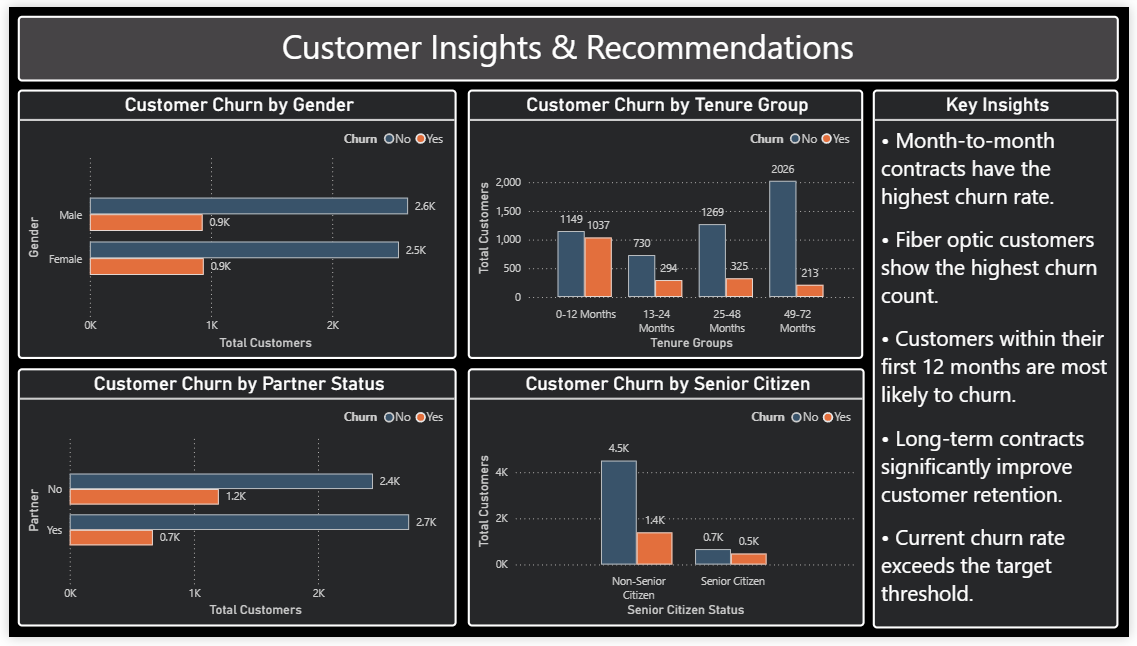

This screenshot's page, from the dashboard's own definition file:
{"tool":"powerbi","page":{"name":"Customer Insights & Recommendations","canvas":[1280,720],"ordinal":1},"visuals":[{"type":"clusteredColumnChart","title":"Customer Churn by Tenure Group","fields":{"Y":["Count(Telco-Customer-Data.customerID)"],"Series":["Telco-Customer-Data.Churn"],"Category":["Telco-Customer-Data.Tenure Group"]},"box":[524.5,94.1,451.8,307.9],"z":0},{"type":"clusteredBarChart","title":"Customer Churn by Gender","fields":{"Category":["Telco-Customer-Data.gender"],"Y":["Count(Telco-Customer-Data.customerID)"],"Series":["Telco-Customer-Data.Churn"]},"box":[10,94.1,501.7,307.9],"z":1000},{"type":"clusteredBarChart","title":"Customer Churn by Partner Status","fields":{"Category":["Telco-Customer-Data.Partner"],"Y":["Count(Telco-Customer-Data.customerID)"],"Series":["Telco-Customer-Data.Churn"]},"box":[10,413.4,501.7,295.1],"z":2000},{"type":"textbox","title":"Key Insights","box":[987.8,94.1,280.8,615.8],"z":3000},{"type":"clusteredColumnChart","title":"Customer Churn by Senior Citizen","fields":{"Y":["CountNonNull(Telco-Customer-Data.customerID)"],"Category":["Telco-Customer-Data.Senior Citizen Status"],"Series":["Telco-Customer-Data.Churn"]},"box":[524.5,413.4,453.3,295.1],"z":4000},{"type":"textbox","box":[10,10,1258.6,75.5],"z":4001}]}

Visuals, with their boxes in screenshot pixels (x1, y1, x2, y2), scaled from the page's 1280x720 canvas onto the 1137x646 screenshot:
"Customer Churn by Tenure Group" clusteredColumnChart: 466, 84, 867, 361
"Customer Churn by Gender" clusteredBarChart: 9, 84, 455, 361
"Customer Churn by Partner Status" clusteredBarChart: 9, 371, 455, 636
"Key Insights" textbox: 877, 84, 1127, 637
"Customer Churn by Senior Citizen" clusteredColumnChart: 466, 371, 869, 636
textbox: 9, 9, 1127, 77
